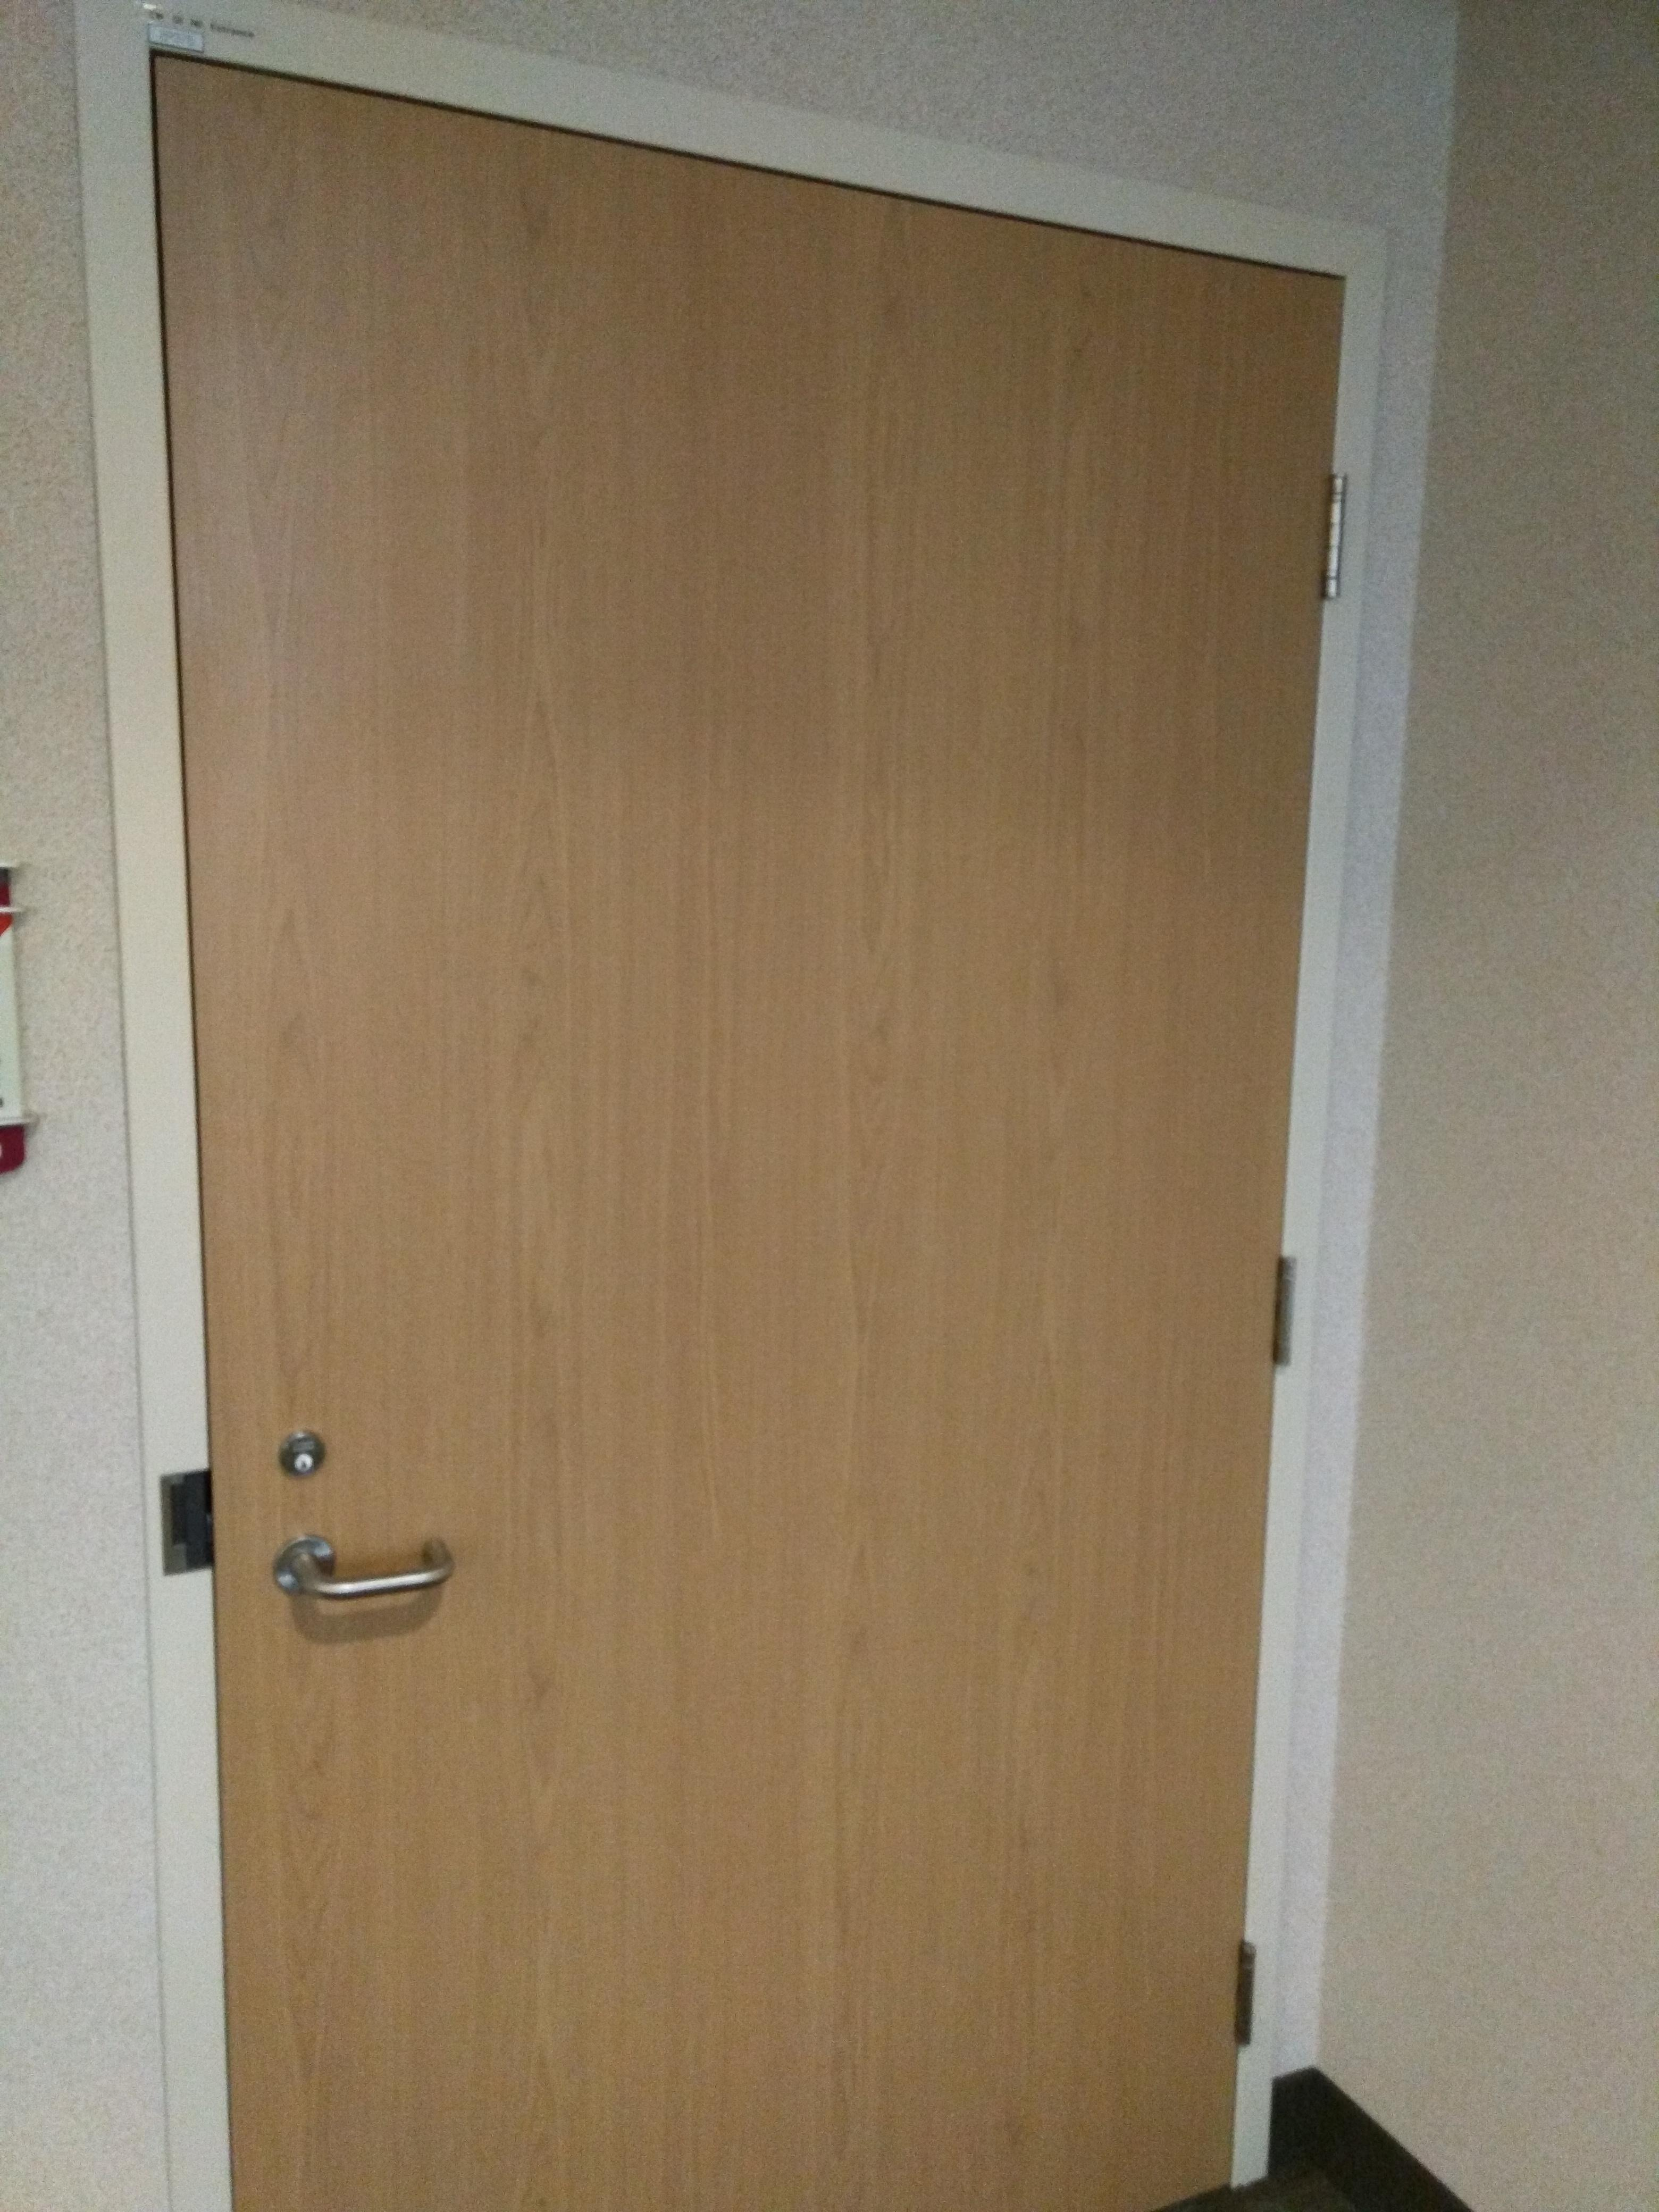door: (129, 12, 1321, 2212)
